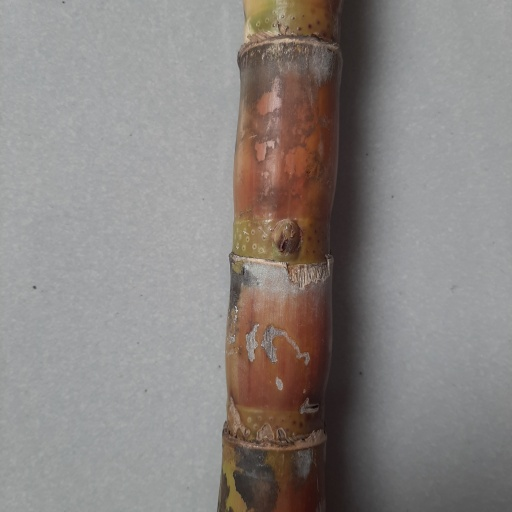Bud: (273, 218, 302, 255)
